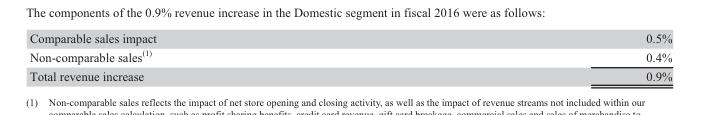table: (28, 29, 671, 83)
table column: (28, 29, 400, 83), (400, 29, 671, 83)
table row: (28, 46, 671, 65), (28, 65, 671, 83), (28, 29, 671, 46)
